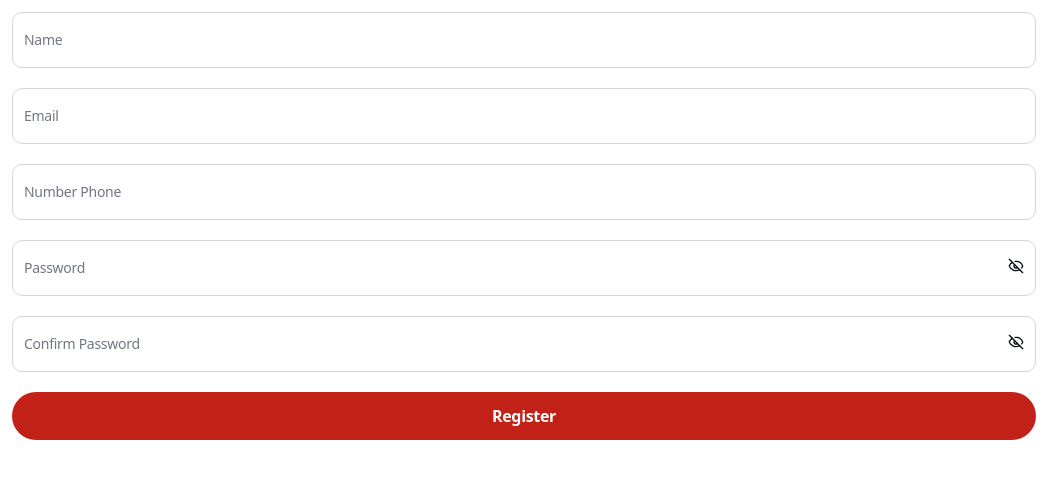
Test case: RegisterForm › rejects a phone number that is too short
Type "Yusuf" into the field with placeholder "Name" at (524, 40), box [12,12,1036,68]
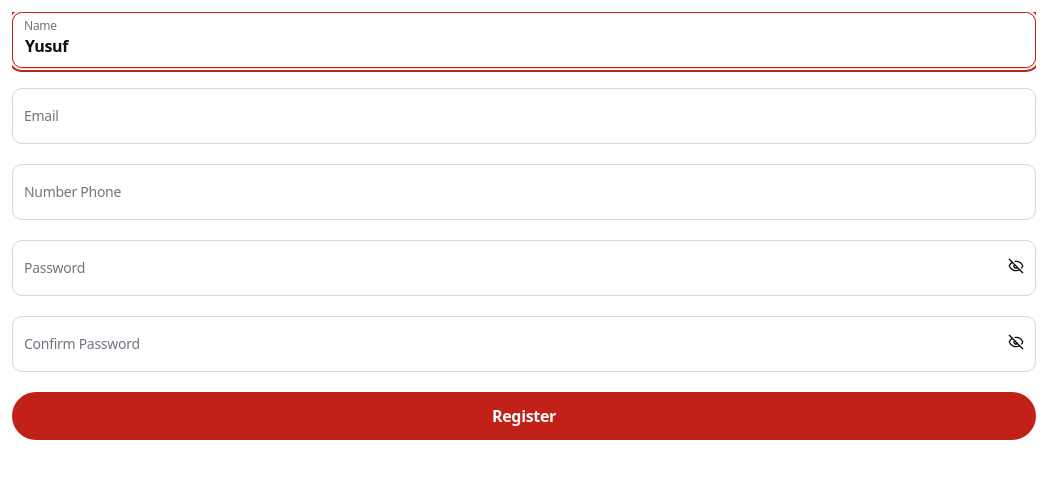
Type "yusuf@example.com" into the field with placeholder "Email" at (524, 116), box [12,88,1036,144]
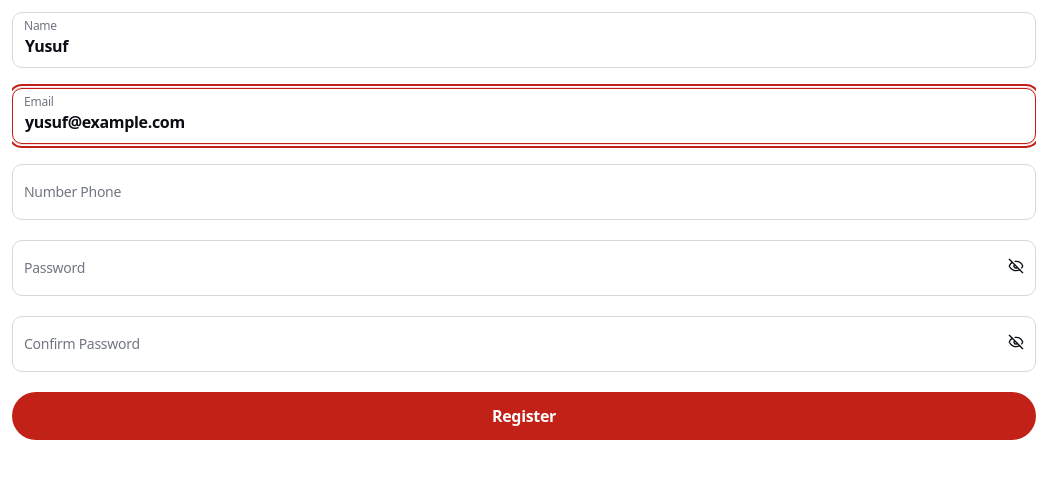
Type "123" into the field with placeholder "Number Phone" at (524, 192), box [12,164,1036,220]
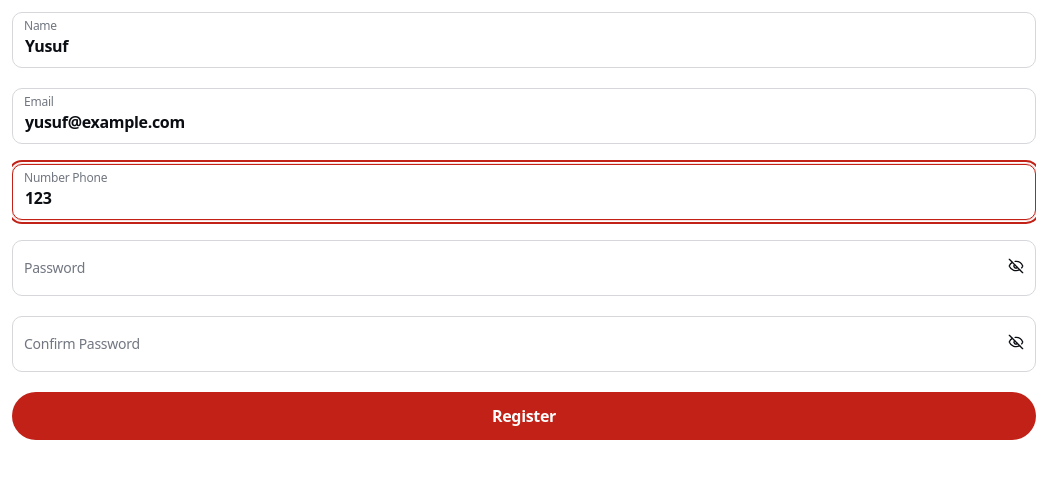
Type "secret1" into the password field with placeholder "Password" at (524, 268), box [12,240,1036,296]
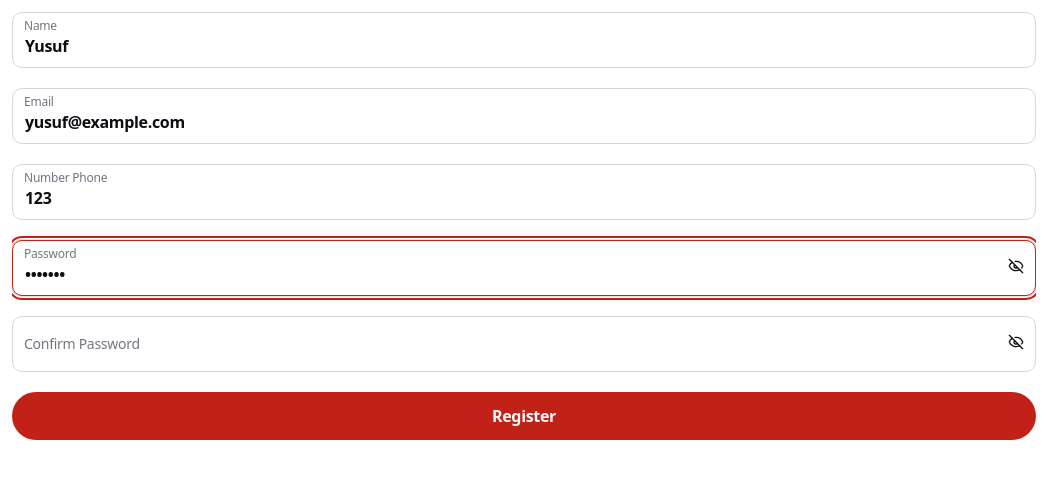
Type "secret1" into the password field with placeholder "Confirm Password" at (524, 344), box [12,316,1036,372]
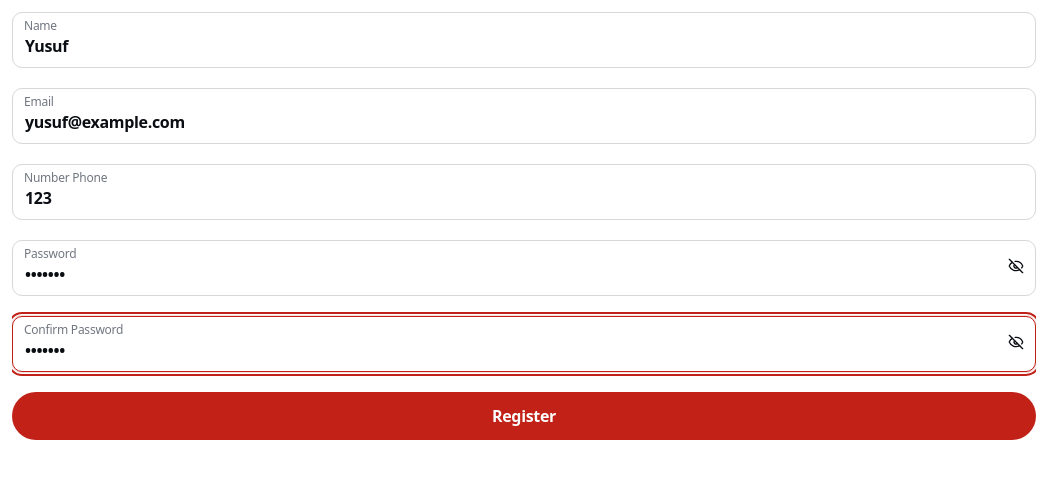
Click the button "Register" at (524, 416), box [12,392,1036,440]
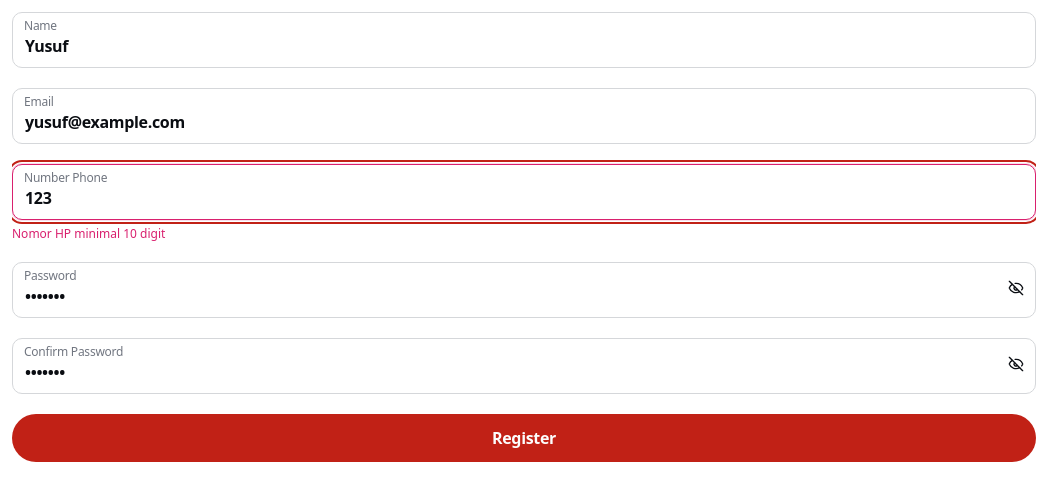
Expected: the text "Nomor HP minimal 10 digit" is shown, [12,225,165,242]
